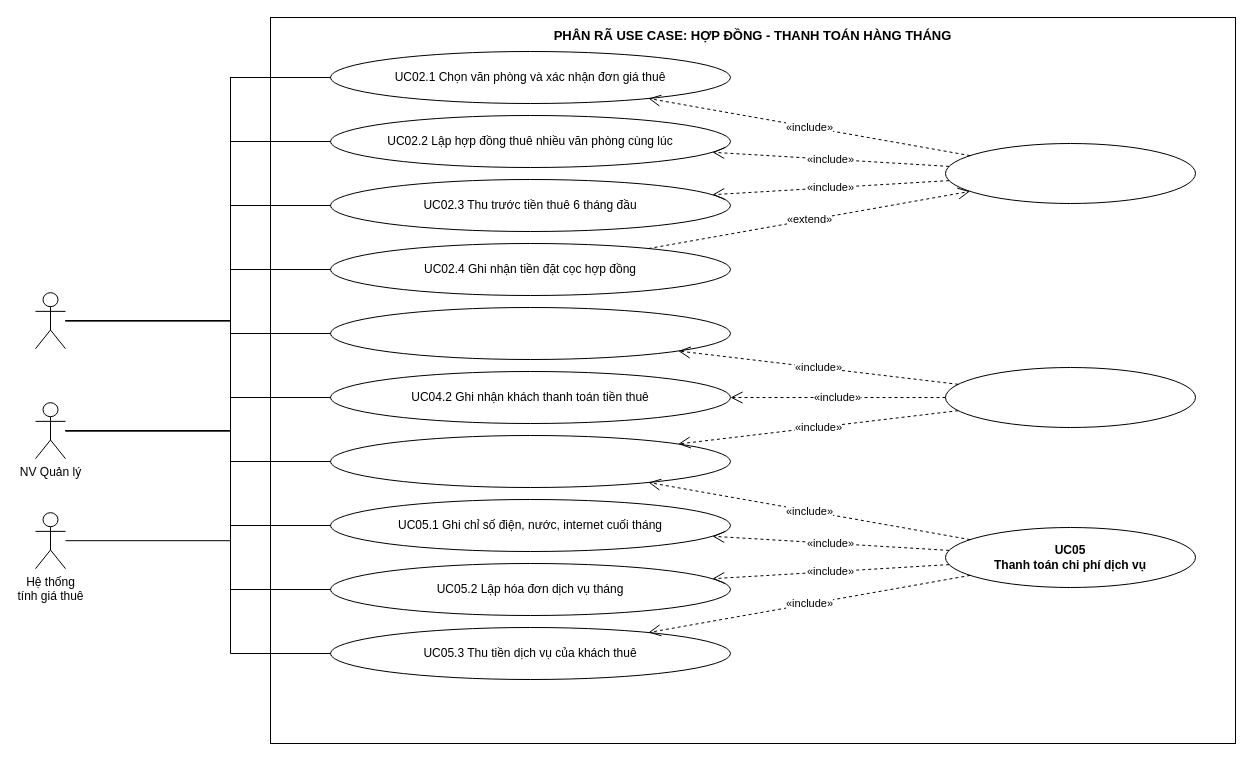
This 1253x761 diagram has some shape labels left out. The shapes that lost their labels are listed below. From the top down, each one's centre as x and y in pixels, then its label:
At point (1070, 173): "UC02 Ký hợp đồng thuê văn phòng".
At point (50, 320): "Khách hàng".
At point (530, 333): "UC04.1 Lập bảng thanh toán tiền thuê tháng".
At point (1070, 397): "UC04 Thanh toán tiền thuê hàng tháng".
At point (530, 461): "UC05.4 Đối chiếu công nợ trước kỳ thanh toán mới".
